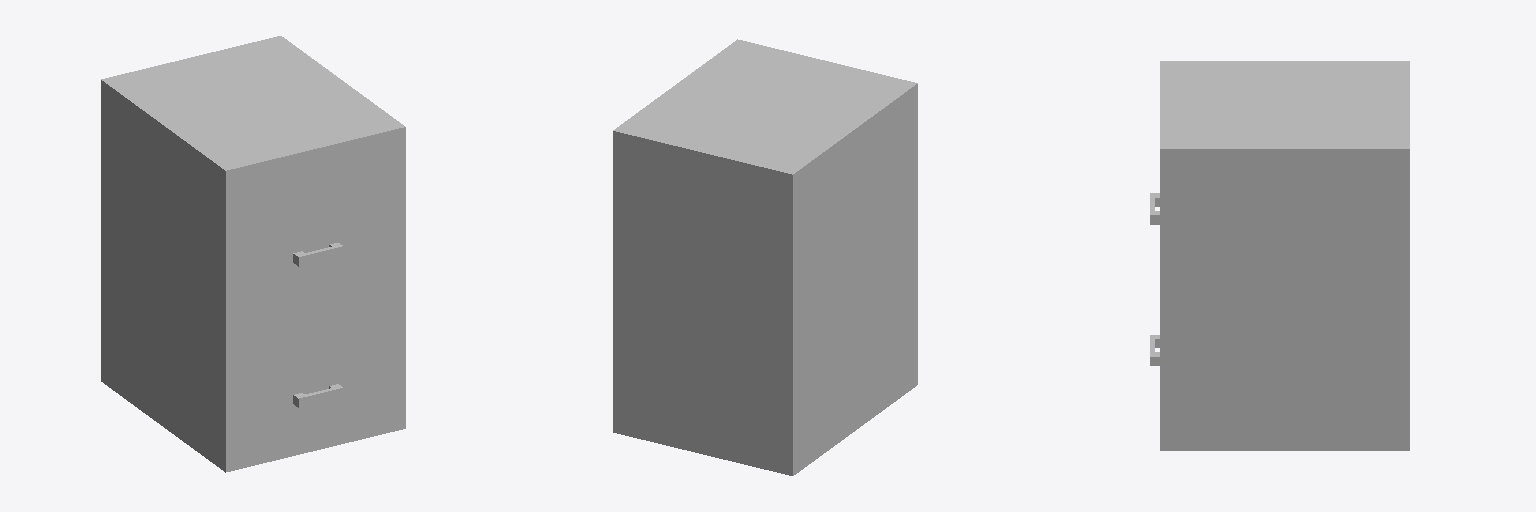
The model's file is file_cabinet.obj.
The picture shows the model from 3 angles: view 1: azimuth 30°, elevation 25°; view 2: azimuth 150°, elevation 25°; view 3: azimuth 270°, elevation 25°; orthographic projection.
Parts seen in each view (by area): view 1: Cabinet, LowerDrawer, UpperDrawer; view 2: Cabinet; view 3: Cabinet.
Boxes of the visible parts, box(x1,y1,x2,y2) form: Cabinet: box(101, 36, 405, 472); LowerDrawer: box(244, 292, 387, 448); UpperDrawer: box(244, 150, 387, 307); Cabinet: box(613, 39, 917, 475); Cabinet: box(1160, 61, 1409, 450).
Bounding box in the file's own units: 0.625 × 1 × 0.7812.